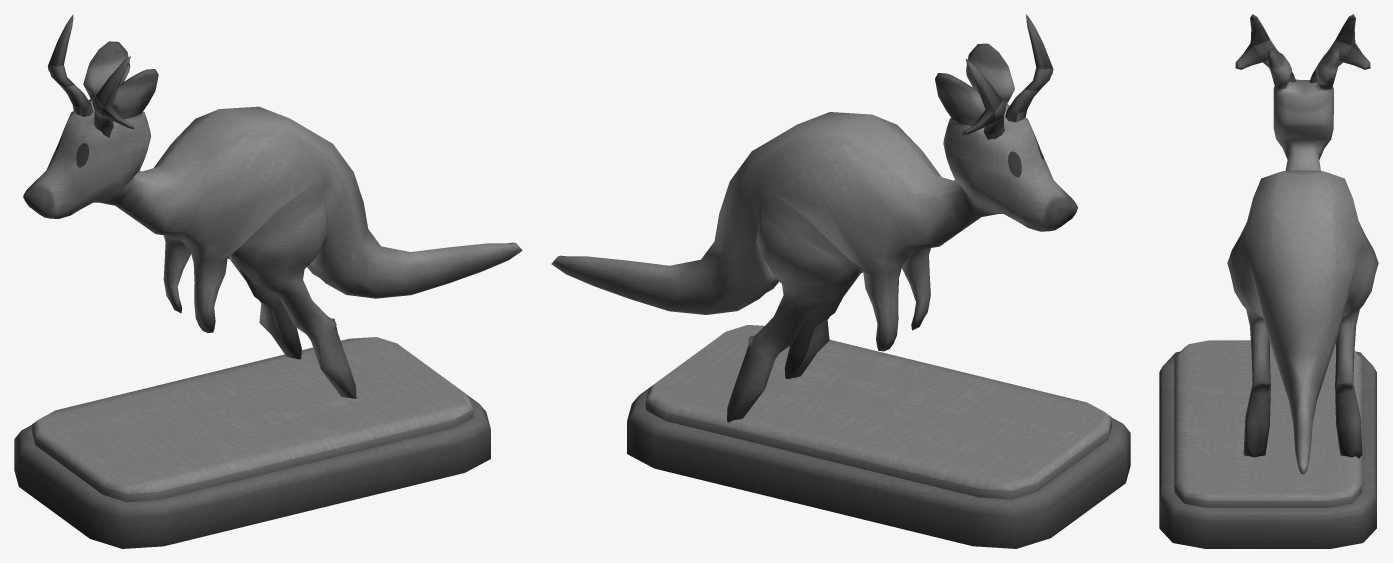
The model's file is JackarooStatueHand.fbx.
3 views of the same model, side by side, from view 1: azimuth 30°, elevation 25°; view 2: azimuth 150°, elevation 25°; view 3: azimuth 270°, elevation 25° (orthographic). The views are drawn at different scales.
Parts seen in each view (by area): view 1: BunyipStatue (4), BunyipStatue (2); view 2: BunyipStatue (4), BunyipStatue (2); view 3: BunyipStatue (2), BunyipStatue (4).
Boxes of the visible parts, box(x1,y1,x2,y2) form: BunyipStatue (4): box(14, 337, 490, 548); BunyipStatue (2): box(23, 14, 522, 398); BunyipStatue (4): box(627, 325, 1130, 548); BunyipStatue (2): box(551, 14, 1077, 422); BunyipStatue (2): box(1227, 14, 1378, 474); BunyipStatue (4): box(1159, 340, 1376, 548).
Size of the model in its own units: 1.54 by 1.33 by 0.6697.
